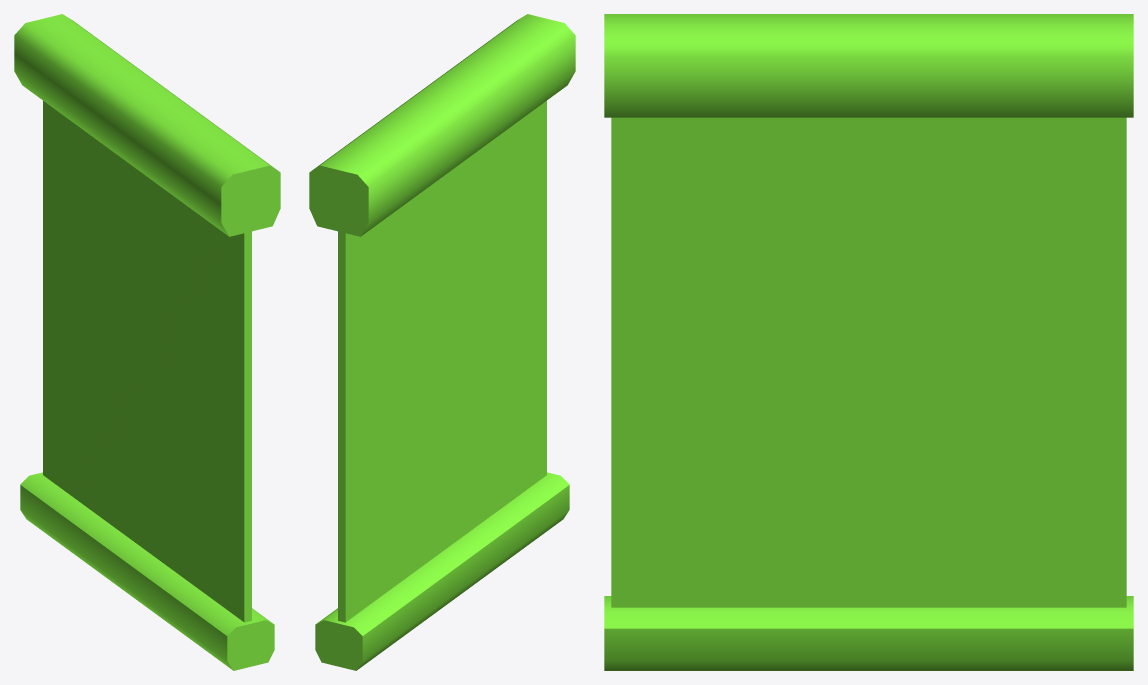
File: Wall_1.fbx
3 renders of one model, left to right at view 1: azimuth 30°, elevation 25°; view 2: azimuth 150°, elevation 25°; view 3: azimuth 270°, elevation 25°, orthographic. The views are drawn at different scales.
Parts seen in each view (by area): view 1: Cube.007, Cube.010, Cube.011; view 2: Cube.007, Cube.010, Cube.011; view 3: Cube.007, Cube.010, Cube.011.
Boxes of the visible parts, x1,y1,x2,y2 form: Cube.007: [43, 101, 251, 622]; Cube.010: [14, 14, 280, 236]; Cube.011: [20, 472, 274, 670]; Cube.007: [338, 101, 546, 622]; Cube.010: [309, 14, 575, 236]; Cube.011: [315, 472, 569, 670]; Cube.007: [611, 117, 1126, 607]; Cube.010: [604, 14, 1133, 117]; Cube.011: [604, 596, 1133, 670].
Size of the model in its own units: 27.22 by 218 by 164.
